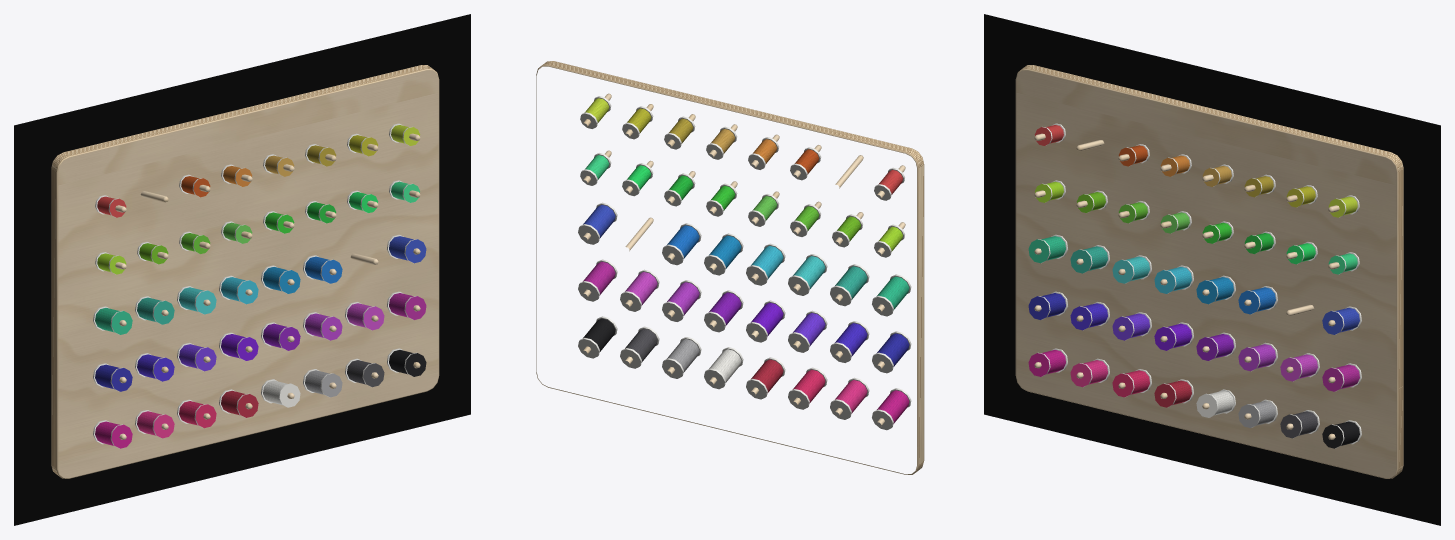
Rendered from thread_rack.glb.
The picture shows the model from 3 angles, left to right: view 1: azimuth 30°, elevation 25°; view 2: azimuth 150°, elevation 25°; view 3: azimuth 330°, elevation 25°; orthographic projection.
Visible parts, largest first — view 1: thread_rack_LOD0, thread_rack_Shadow; view 2: thread_rack_LOD0; view 3: thread_rack_LOD0, thread_rack_Shadow.
Part boxes in pixels (box(x1,y1,x2,y2)): thread_rack_LOD0: box(51, 65, 439, 478); thread_rack_Shadow: box(14, 14, 470, 525); thread_rack_LOD0: box(536, 61, 924, 474); thread_rack_LOD0: box(1015, 65, 1403, 478); thread_rack_Shadow: box(984, 14, 1440, 525).
Size of what is drawn, in the model's own units: 0.74 by 0.62 by 0.0844.
4 materials, 4 textured.
